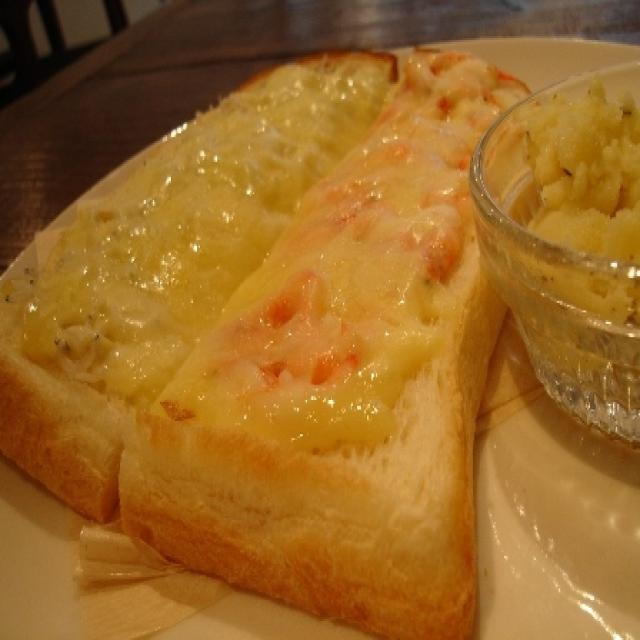面包点心: (0, 21, 564, 640)
